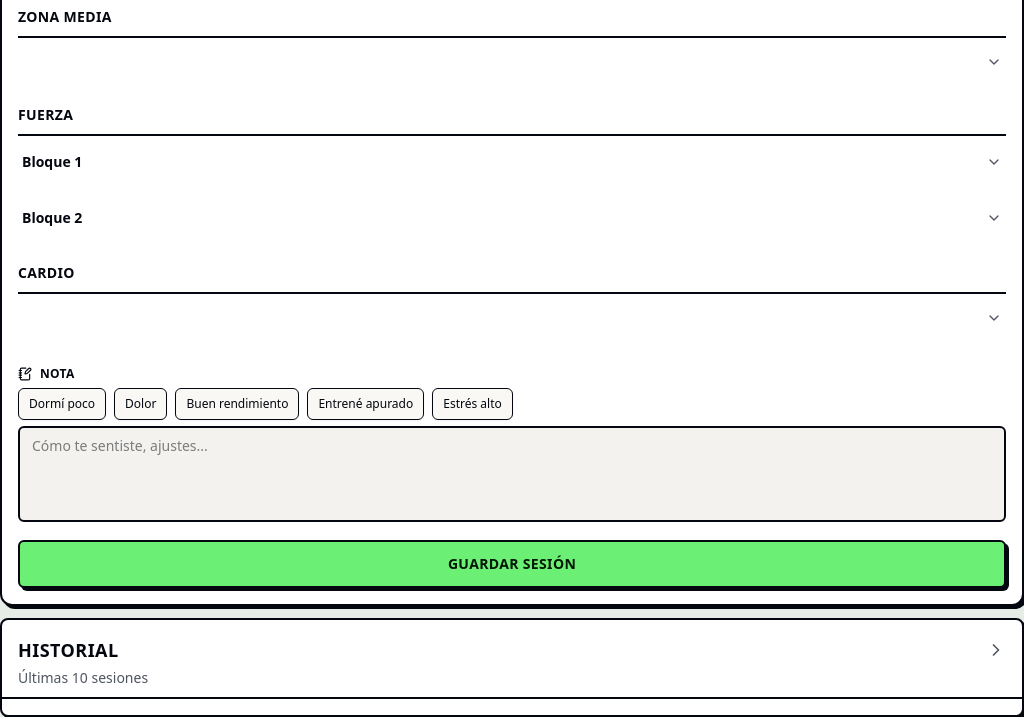
Test case: WorkoutApp › keeps history collapsed until the section and session are opened
(page scrolled)
Expected: the text "Últimas 10 sesiones" is shown, [18, 668, 148, 688]
Expected: the text "Rutina histórica" is not shown
Click the button "Historial Últimas 10 sesiones" at (68, 650), box [18, 636, 1006, 688]
(page scrolled)
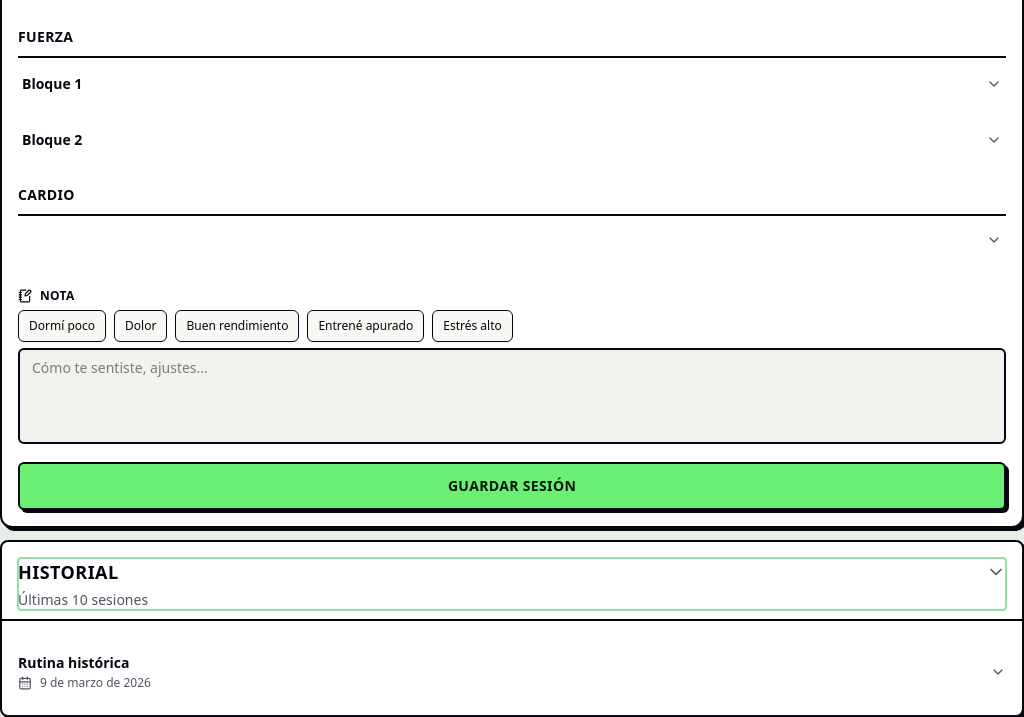
Expected: the text "Prensa histórica" is not shown
Expected: the text "Rutina histórica" is shown, [18, 653, 130, 672]
Click the button "Rutina histórica" at (74, 662), box [18, 645, 1006, 699]
(page scrolled)
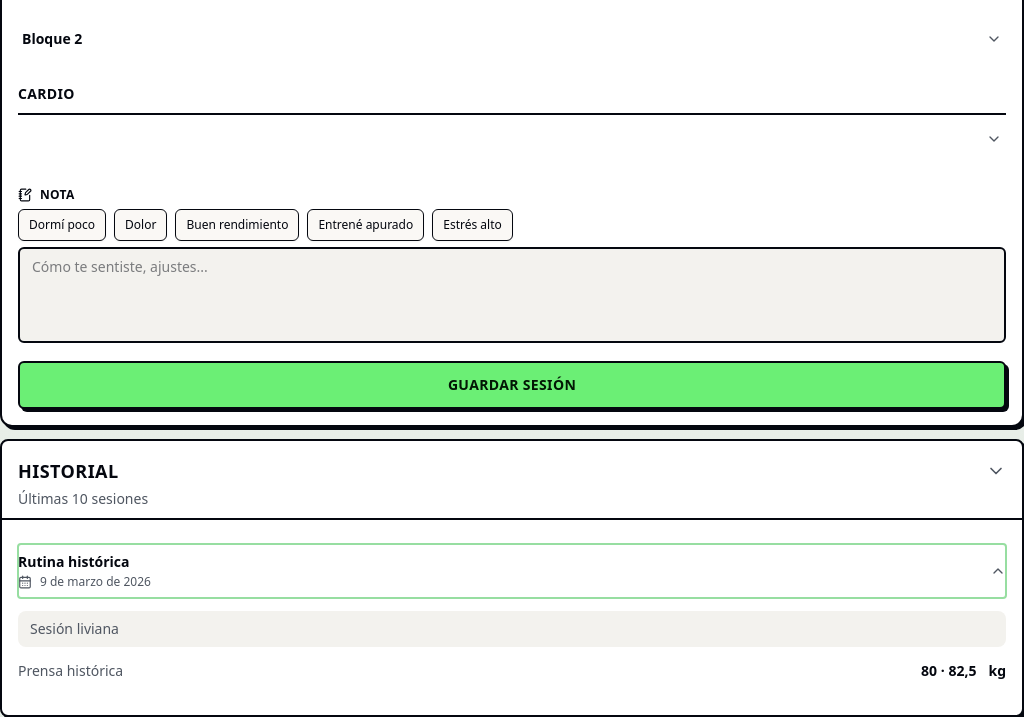
Expected: the text "Prensa histórica" is shown, [18, 661, 123, 680]
Expected: the text "Sesión liviana" is shown, [18, 611, 1006, 647]
